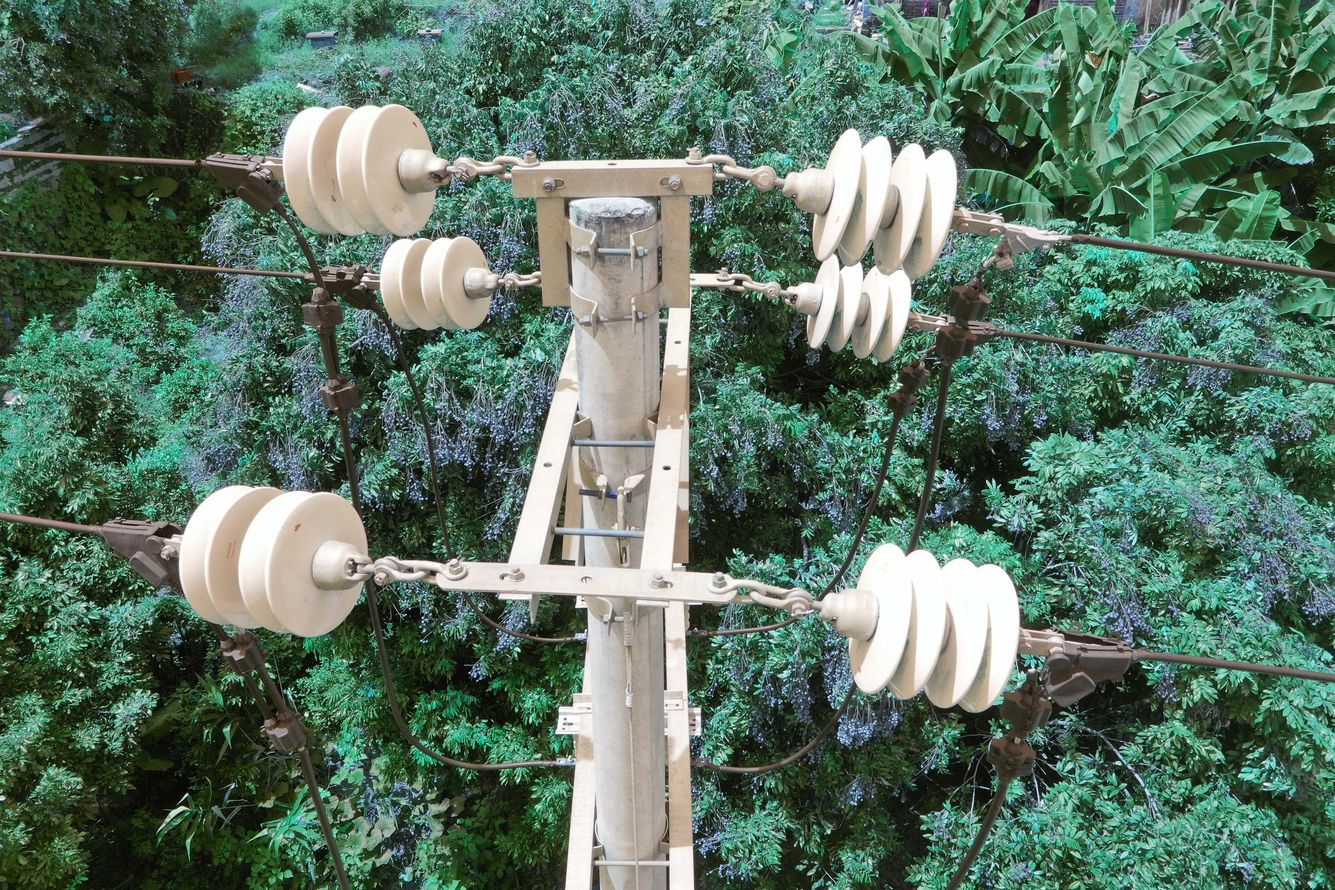severe_soiling_no_discharge_whole: (818, 537, 1021, 715), (779, 128, 962, 279), (782, 258, 909, 367)
